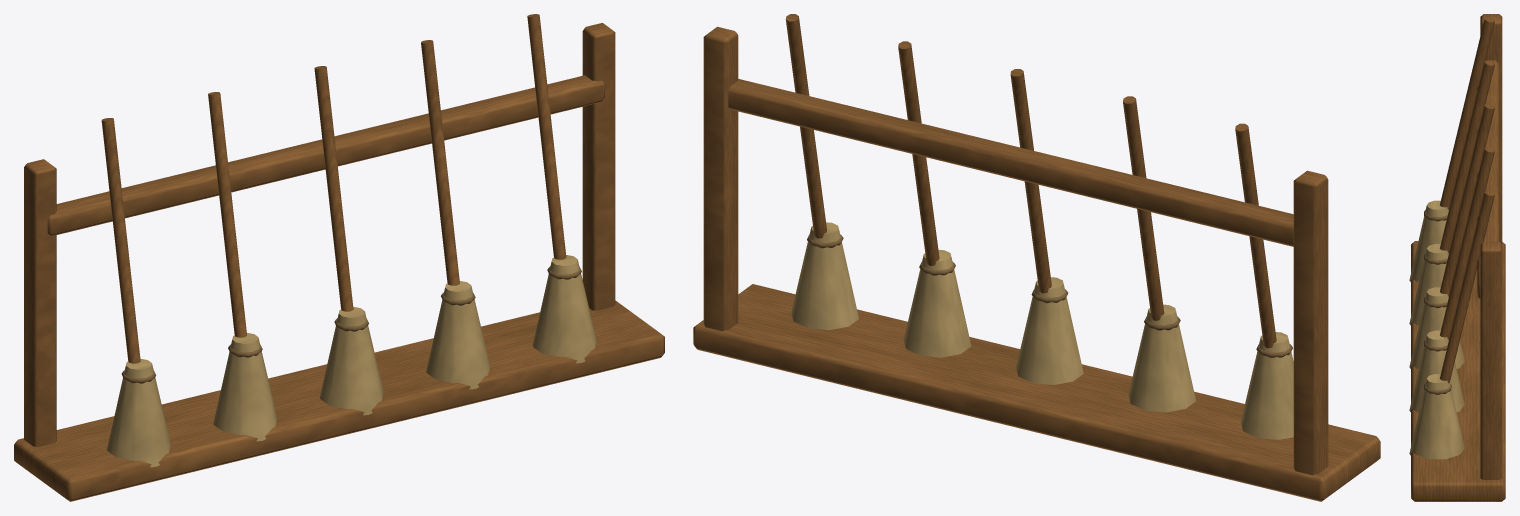
The model's file is Furn_BroomRack.fbx.
3 renders of one model, left to right at view 1: azimuth 30°, elevation 25°; view 2: azimuth 150°, elevation 25°; view 3: azimuth 270°, elevation 25°, orthographic. The views are drawn at different scales.
Visible parts, largest first — view 1: Furn_BroomRack_Mesh; view 2: Furn_BroomRack_Mesh; view 3: Furn_BroomRack_Mesh.
Part boxes in pixels (x1=…): Furn_BroomRack_Mesh: x1=14, y1=14, x2=664, y2=501; Furn_BroomRack_Mesh: x1=693, y1=14, x2=1380, y2=501; Furn_BroomRack_Mesh: x1=1409, y1=14, x2=1505, y2=501.
Size of the model in its own units: 1.8 by 0.95 by 0.3.
3 materials, 3 textured.
